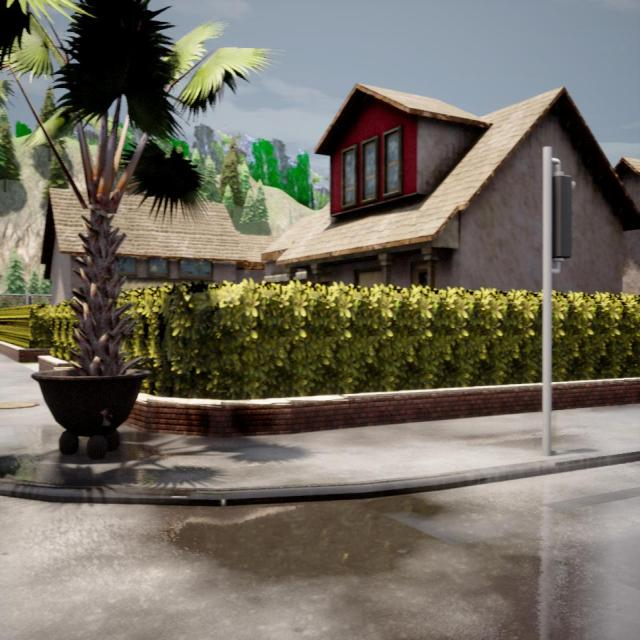traffic_light: (552, 175, 576, 261)
